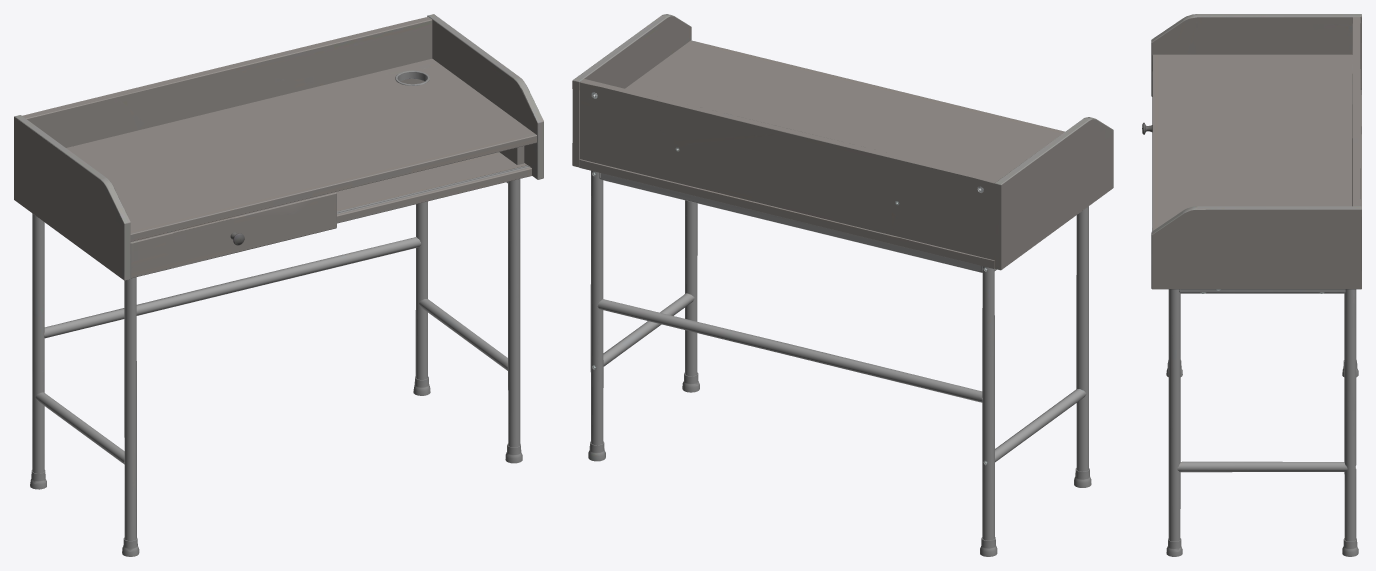
Rendered from HAUGA_60477674.glb.
3 views of the same model, side by side, from view 1: azimuth 30°, elevation 25°; view 2: azimuth 150°, elevation 25°; view 3: azimuth 270°, elevation 25° (orthographic). The views are drawn at different scales.
Visible parts, largest first — view 1: 60503220-HAUGA001; view 2: 60503220-HAUGA001; view 3: 60503220-HAUGA001.
Boxes of the visible parts, left/top/right/bottom form: 60503220-HAUGA001: left=14, top=14, right=543, bottom=556; 60503220-HAUGA001: left=572, top=14, right=1113, bottom=556; 60503220-HAUGA001: left=1142, top=14, right=1361, bottom=556.
Size of the model in its own units: 1 by 0.8416 by 0.4756.
1 material, 1 textured.
